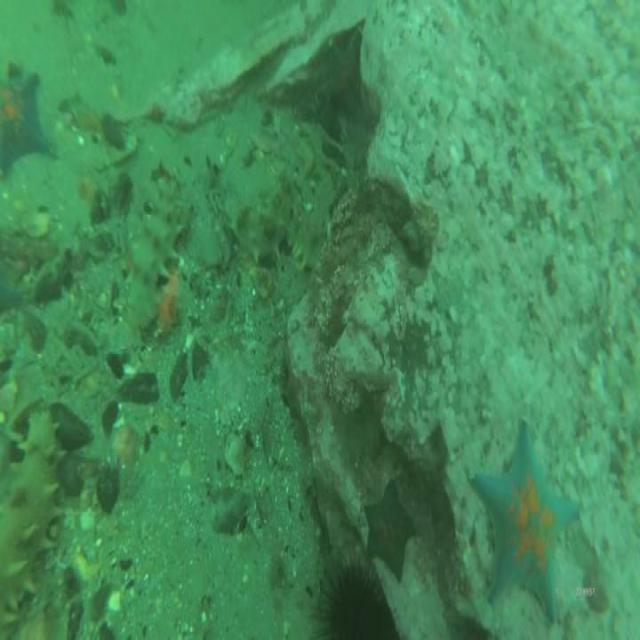echinus: (314, 558, 398, 640)
holothurian: (0, 404, 65, 637), (214, 138, 297, 268), (121, 169, 183, 337), (290, 164, 332, 275)
starfish: (469, 416, 584, 630), (0, 64, 63, 178), (360, 478, 419, 586), (314, 26, 364, 104)
